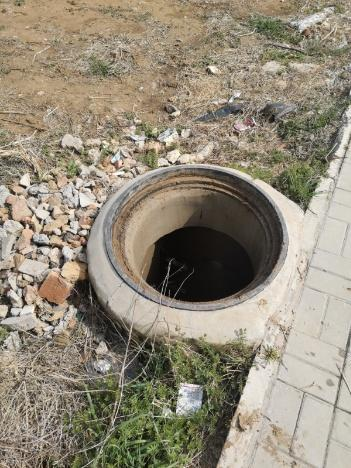wellcover: (98, 162, 297, 326)
